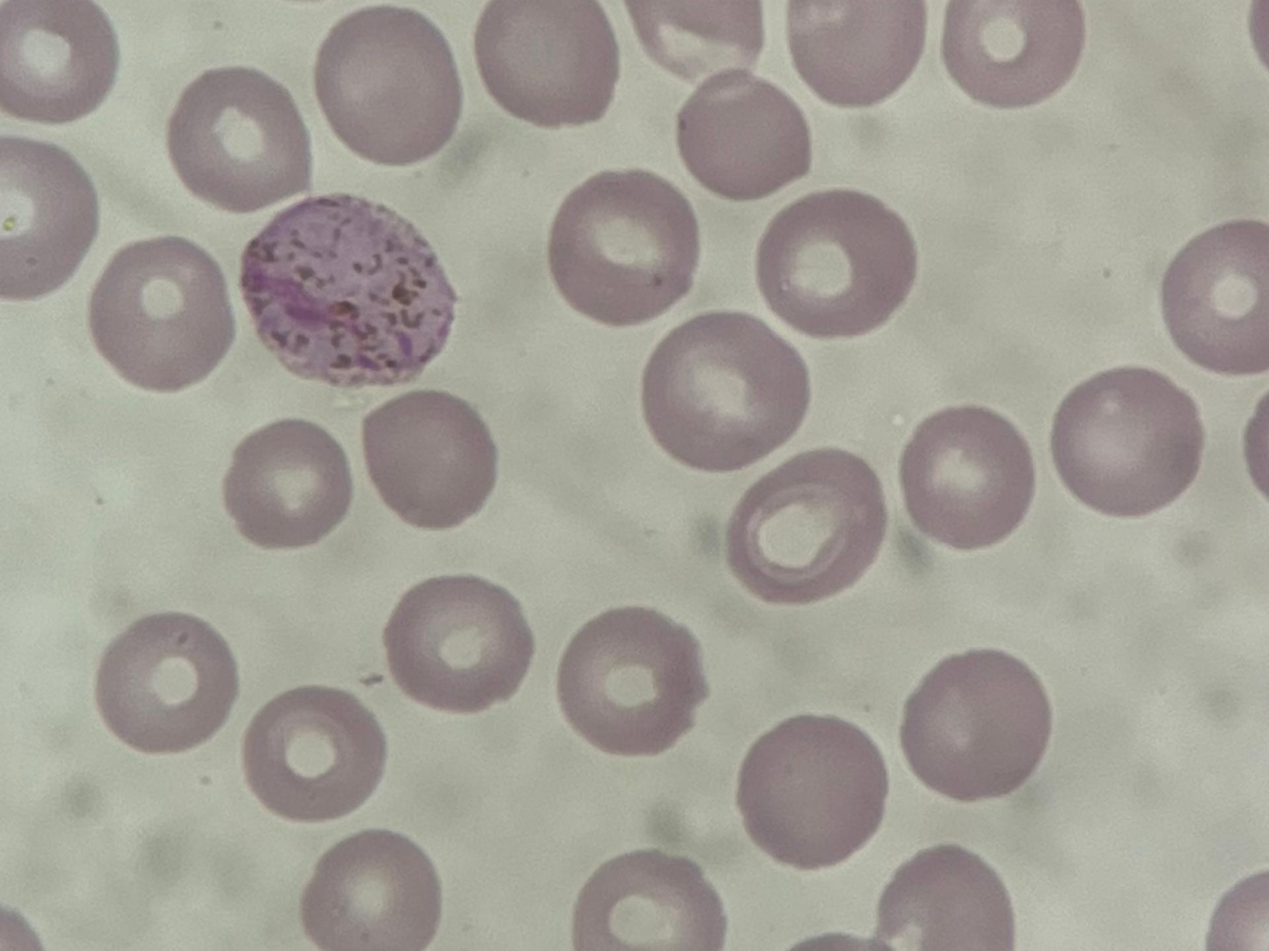Infected: (236, 190, 461, 393)
Uninfected: (646, 312, 811, 470), (727, 439, 880, 602), (755, 188, 917, 339), (553, 168, 699, 330), (1053, 368, 1207, 520), (313, 9, 464, 164), (737, 715, 888, 866), (87, 237, 234, 391), (900, 651, 1050, 800), (555, 608, 705, 753), (383, 574, 535, 713), (169, 67, 313, 210), (94, 614, 239, 755), (905, 402, 1038, 552), (361, 389, 501, 529), (241, 687, 387, 821), (475, 1, 619, 128), (675, 76, 812, 204), (221, 419, 354, 550), (299, 833, 437, 949), (1161, 220, 1269, 367), (2, 139, 99, 298), (572, 850, 723, 949), (942, 0, 1082, 104), (3, 1, 120, 122), (788, 2, 926, 104)
